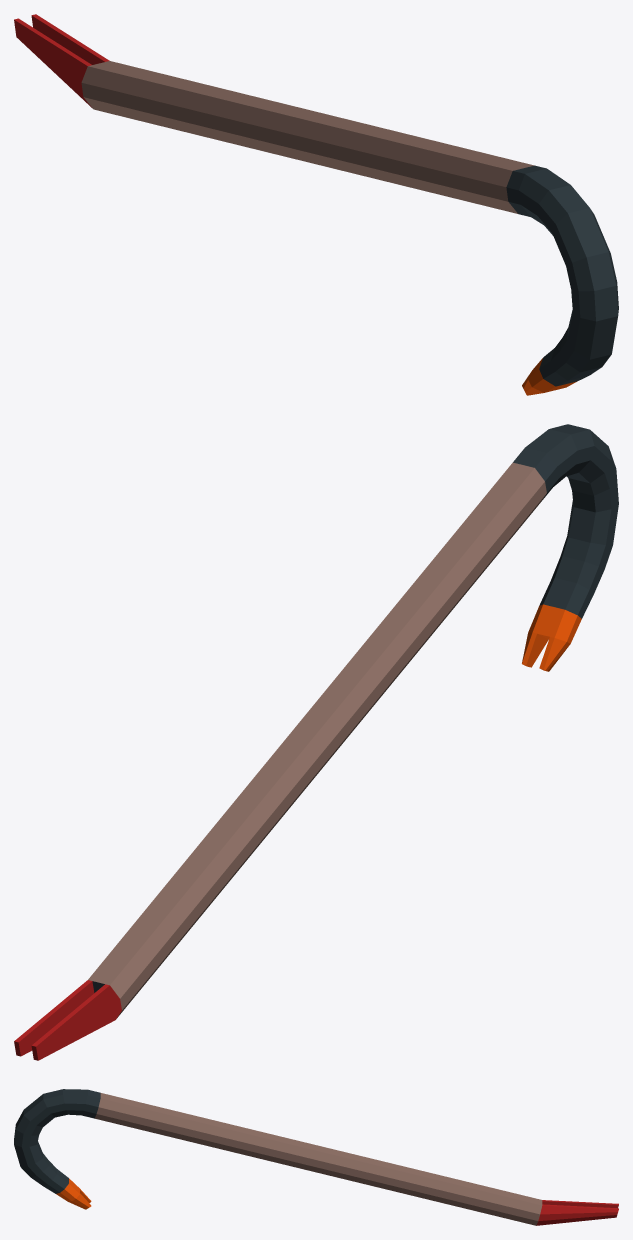
The model's file is Crowbar.fbx.
3 views of the same model, one above another, from view 1: azimuth 30°, elevation 25°; view 2: azimuth 150°, elevation 25°; view 3: azimuth 270°, elevation 25° (orthographic). The views are drawn at different scales.
Visible parts, largest first — view 1: Crowbar; view 2: Crowbar; view 3: Crowbar.
Boxes of the visible parts, x1,y1,x2,y2 form: Crowbar: (14, 14, 618, 395); Crowbar: (14, 424, 618, 1060); Crowbar: (14, 1089, 618, 1225).
Size of the model in its own units: 0.14 by 0.8743 by 3.65.
